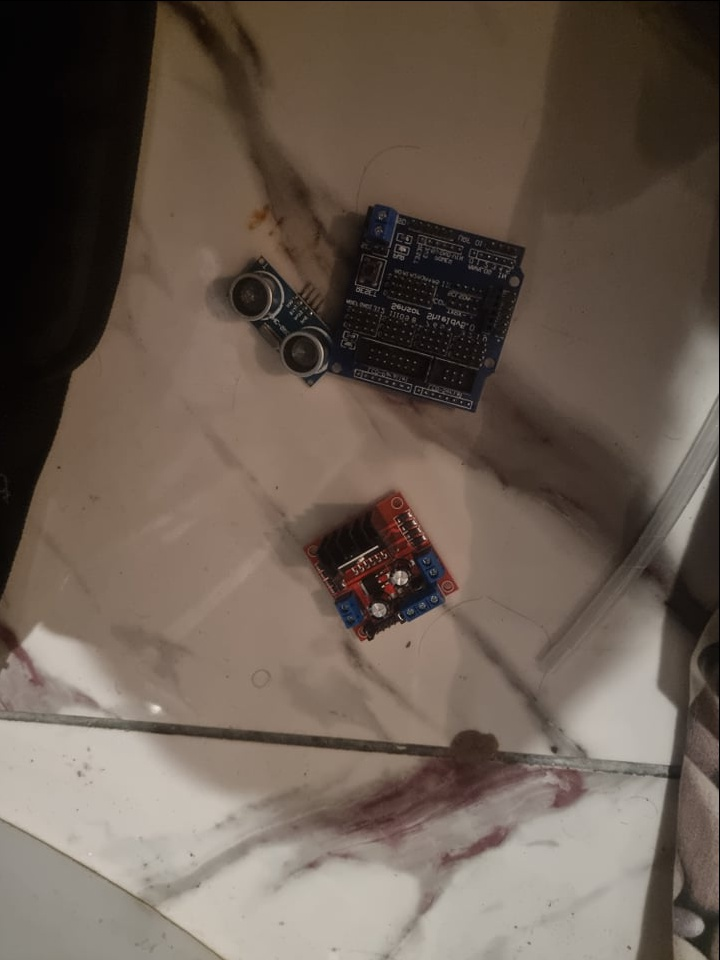5V EXPANSION: (333, 202, 530, 413)
MOTOR: (300, 484, 458, 640)
SENSOR: (227, 257, 327, 391)
